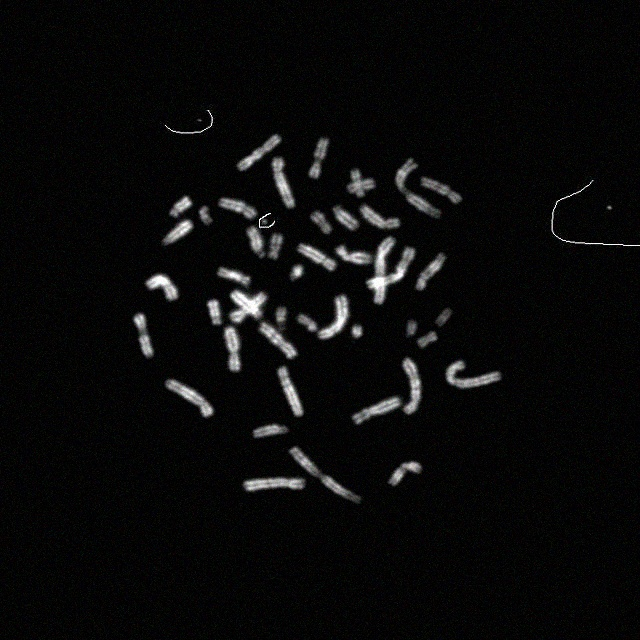chromosome: (290, 448, 362, 502), (396, 158, 440, 218), (368, 248, 414, 288), (238, 134, 282, 172), (166, 380, 212, 416), (447, 360, 501, 388), (319, 295, 349, 339), (353, 398, 403, 424), (260, 323, 296, 359), (376, 236, 394, 306), (415, 253, 447, 290), (278, 367, 302, 415), (273, 158, 295, 208), (402, 360, 422, 414), (230, 293, 268, 321), (422, 178, 462, 204), (298, 243, 336, 269), (244, 477, 304, 493), (162, 220, 194, 248), (388, 462, 422, 488), (361, 206, 399, 228), (146, 275, 178, 301), (310, 138, 330, 178), (231, 291, 261, 317), (134, 314, 152, 356), (220, 198, 256, 218), (218, 266, 250, 286), (334, 204, 358, 230), (226, 327, 240, 371), (336, 246, 369, 264), (247, 226, 265, 258), (252, 424, 288, 438), (169, 196, 191, 218), (311, 210, 331, 233), (347, 179, 375, 193), (207, 299, 221, 325), (297, 314, 317, 332), (435, 308, 453, 328), (352, 169, 364, 197), (268, 234, 282, 258), (417, 331, 438, 347), (198, 206, 212, 224), (274, 306, 286, 324), (289, 266, 301, 282), (406, 321, 416, 337), (351, 326, 363, 338)
